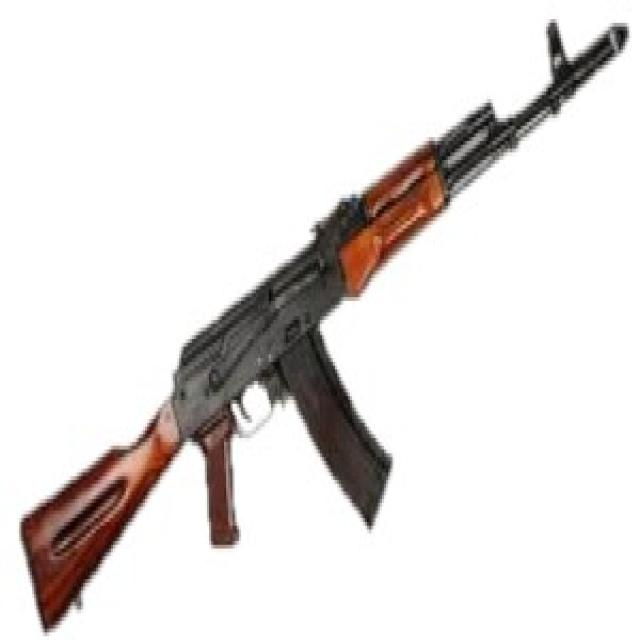rifle: (15, 3, 639, 638)
